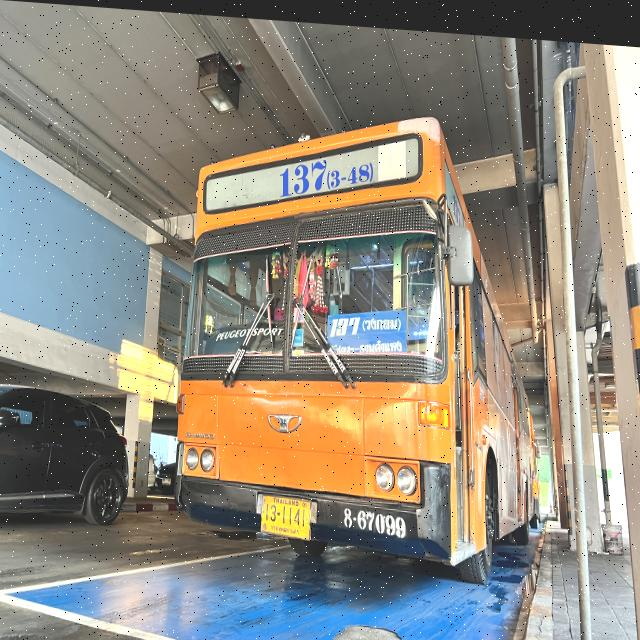BMTA-bus: (176, 96, 538, 581)
Bus-Line-Number: (275, 134, 375, 203)
Destination-Sign-Normal: (327, 296, 408, 354)
